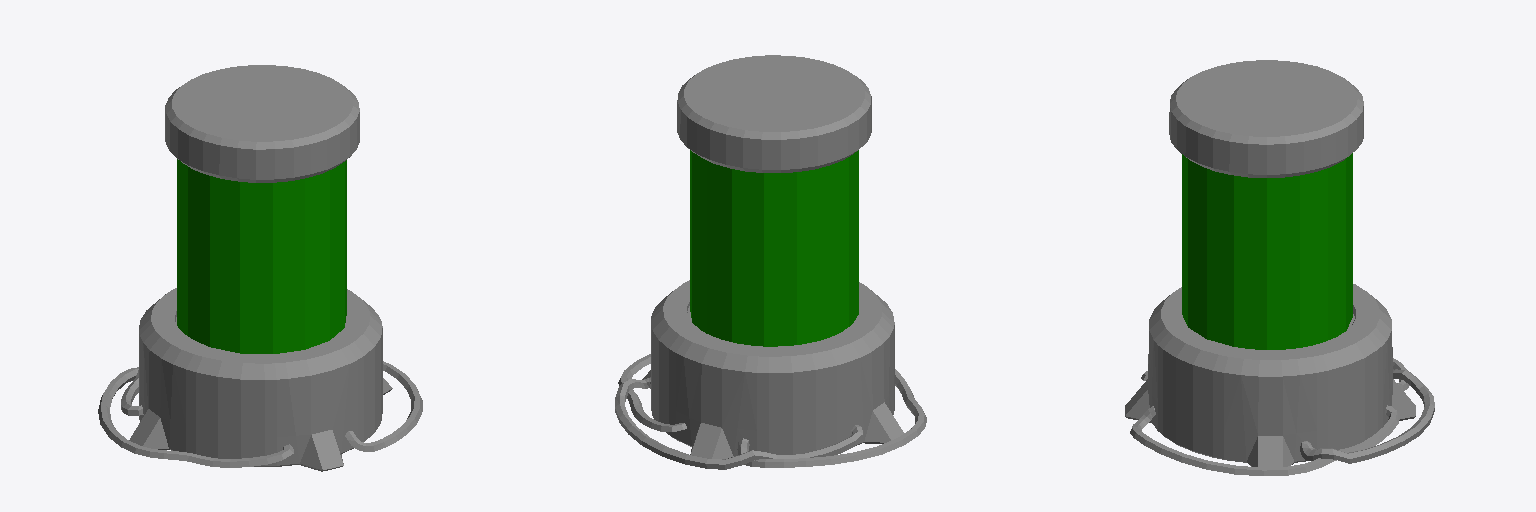
The model's file is incubator.obj.
The picture shows the model from 3 angles: view 1: azimuth 30°, elevation 25°; view 2: azimuth 150°, elevation 25°; view 3: azimuth 270°, elevation 25°; orthographic projection.
Visible parts, largest first — view 1: incubator; view 2: incubator; view 3: incubator.
Part boxes in pixels (bbox=[...]): incubator: bbox=[98, 65, 422, 471]; incubator: bbox=[615, 55, 926, 469]; incubator: bbox=[1125, 60, 1434, 475].
Size of the model in its own units: 2.7 by 2.85 by 2.54.